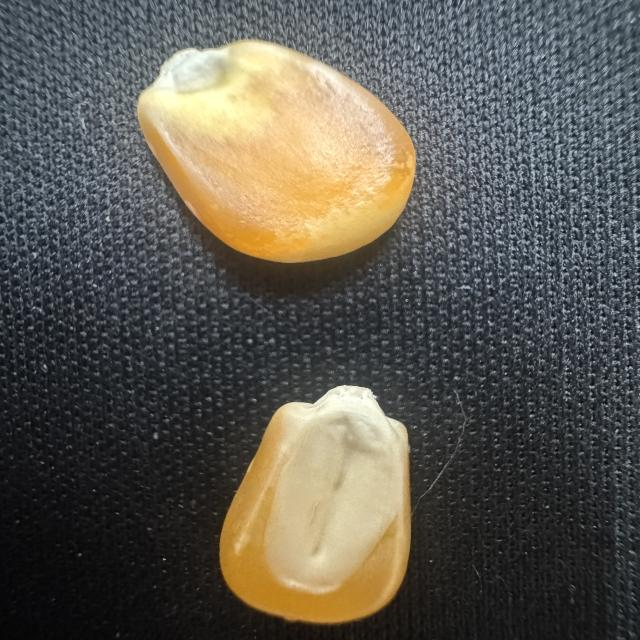Good-Seed: (132, 34, 420, 268), (215, 382, 417, 626)
